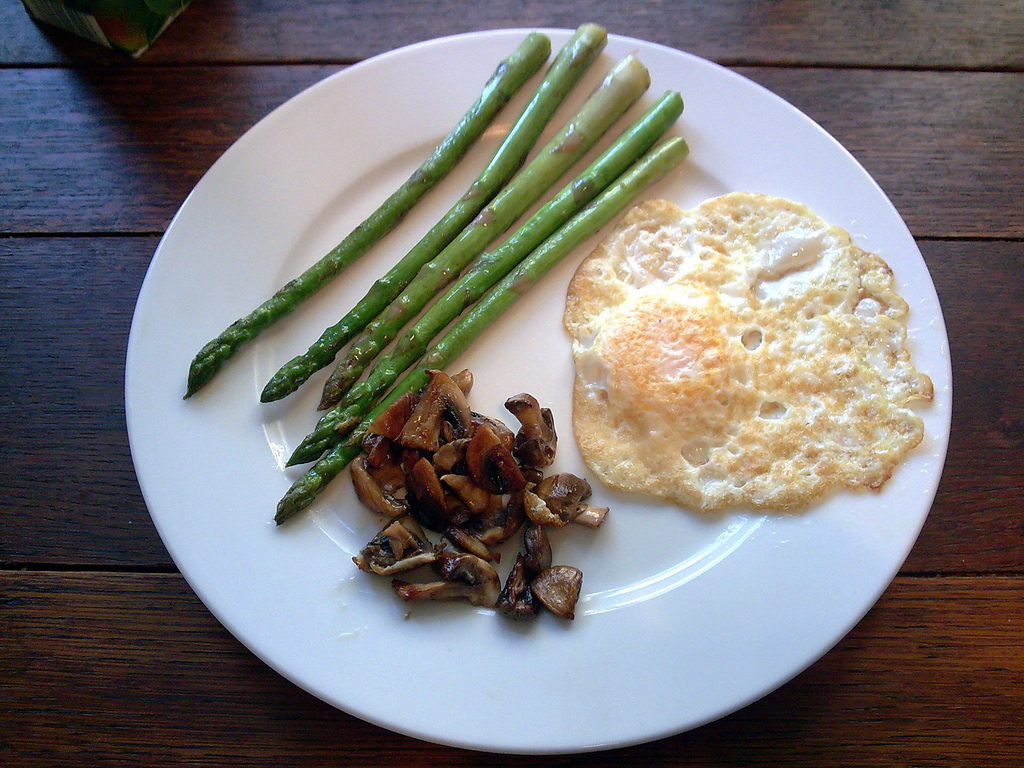fried egg: (587, 212, 911, 492)
